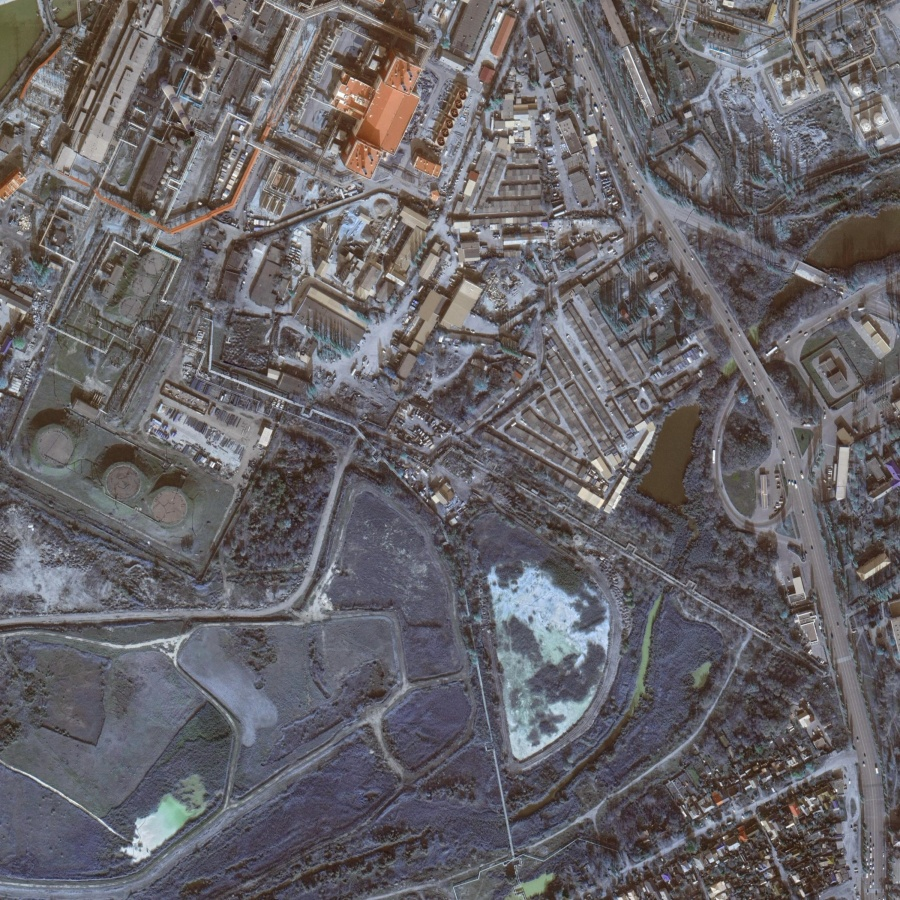PowerPlant: (18, 244, 204, 538)
